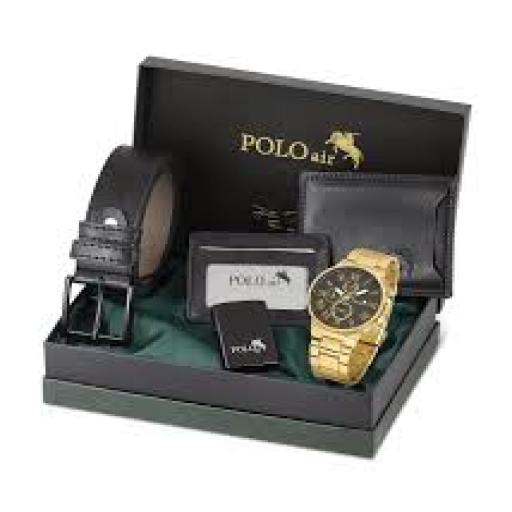KolSaati: (272, 232, 411, 396)
